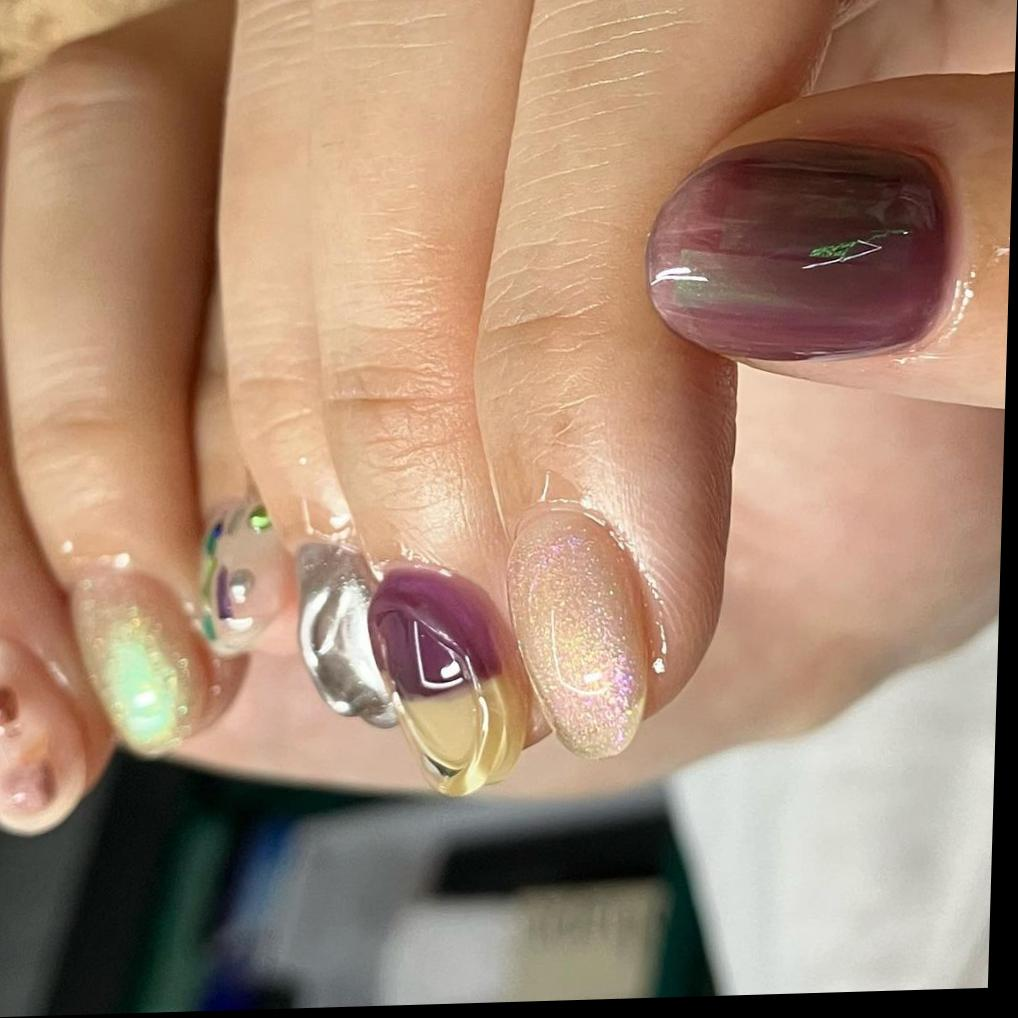nail: (642, 132, 961, 370), (360, 560, 536, 803), (499, 497, 658, 765), (65, 563, 252, 762), (290, 538, 407, 735), (0, 632, 93, 839), (194, 492, 300, 659)
